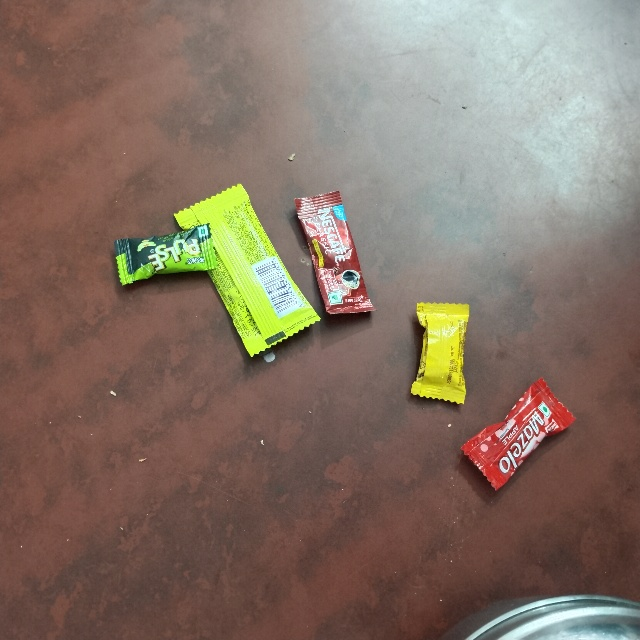Alpenlibe Creamfills: (409, 298, 472, 405)
Mazelo: (540, 369, 604, 486)
Nescafe Coffee: (293, 205, 349, 327)
Orbit: (165, 220, 249, 391)
Pulse: (104, 244, 208, 295)
